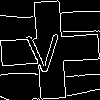V: (25, 25, 62, 73)
